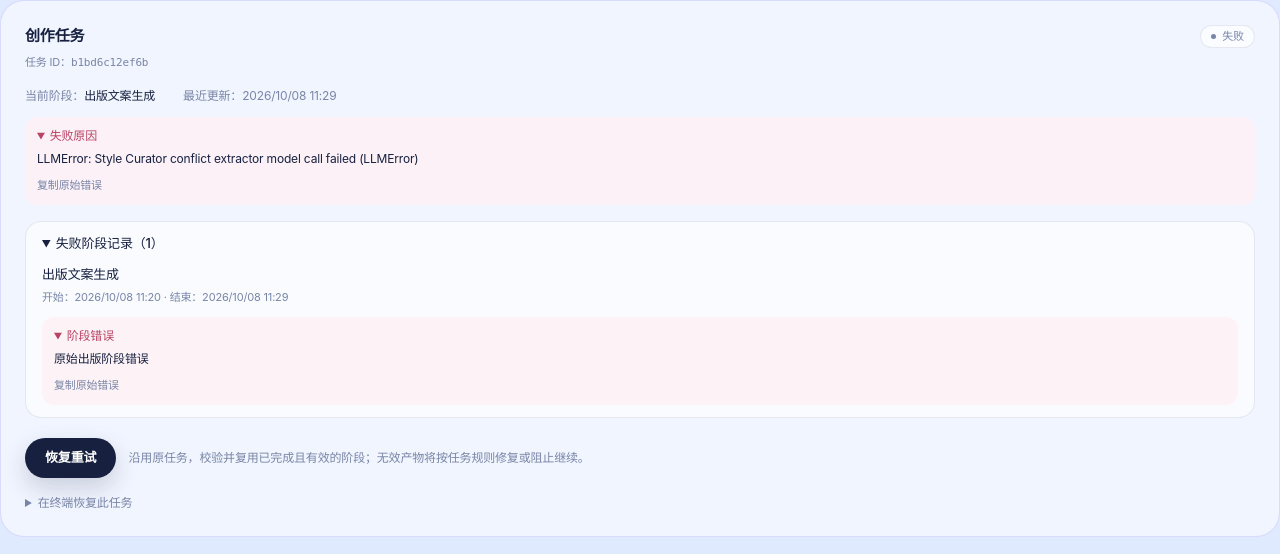
submits once, keeps polling a running manifest after job done, and stops at task failure
Click the button "恢复重试": (71, 458) [25, 438, 116, 478]
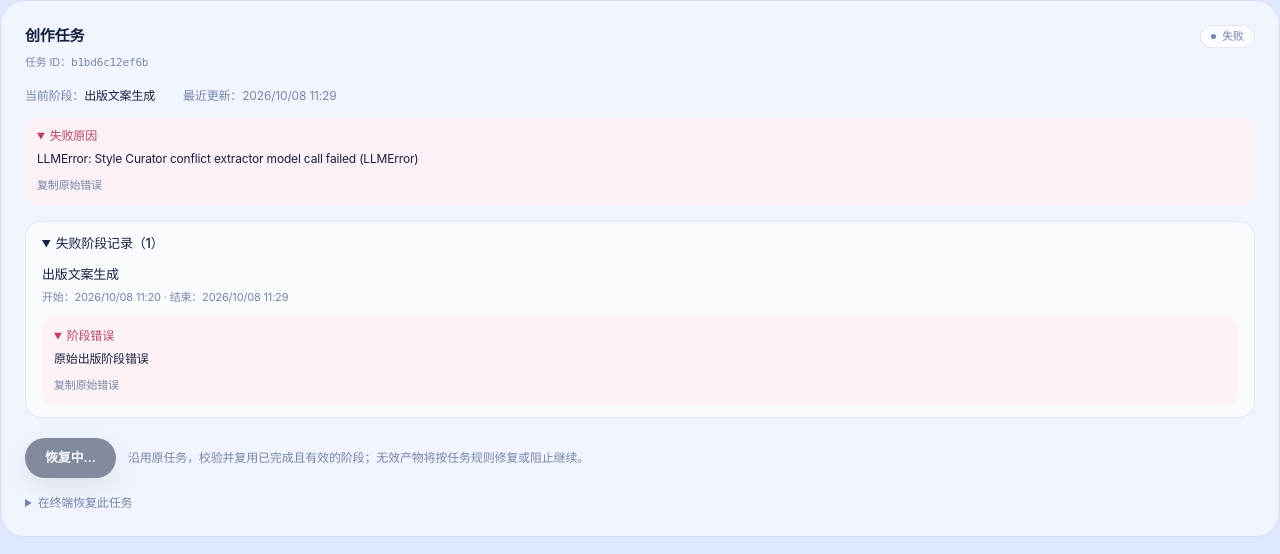
Expected: the button "恢复中…" is disabled
Click the button "恢复中…": (70, 458) [25, 438, 116, 478]
Wait 12500 ms
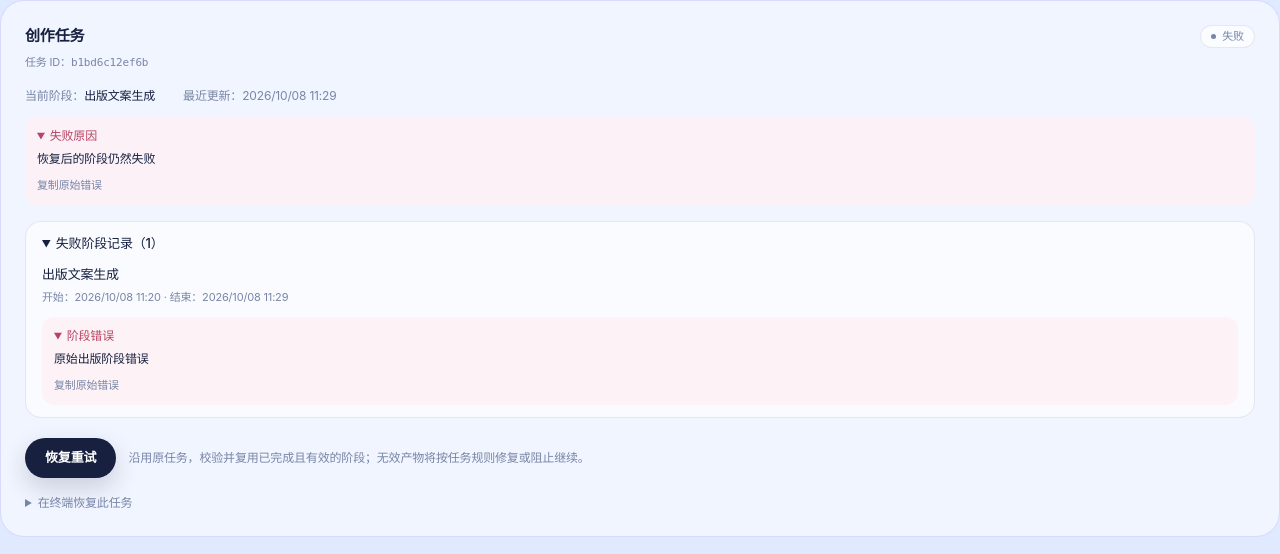
Expected: the heading "上次失败原因" is shown, [50, 128, 97, 143]
Expected: the text "恢复后的阶段仍然失败" is shown, [37, 151, 155, 166]
Expected: the button "恢复重试" is enabled, [25, 438, 116, 478]
